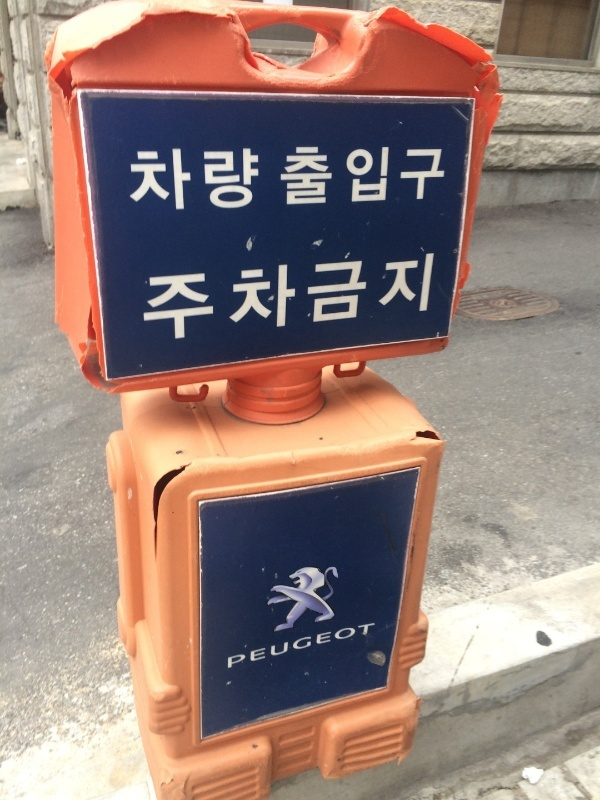text: (145, 247, 160, 349), (161, 247, 176, 349), (177, 247, 192, 349), (193, 247, 208, 349), (209, 247, 224, 349), (225, 247, 240, 349), (241, 247, 256, 349), (257, 247, 272, 349), (273, 247, 288, 349), (289, 247, 304, 349), (305, 247, 320, 349), (321, 247, 336, 349), (337, 247, 352, 349), (353, 247, 368, 349), (369, 247, 384, 349), (385, 247, 400, 349), (401, 247, 416, 349), (417, 247, 432, 349), (129, 143, 144, 221), (145, 143, 160, 221), (161, 143, 176, 221), (177, 143, 192, 221), (193, 143, 208, 221), (209, 143, 224, 221), (225, 143, 240, 221), (241, 143, 256, 221), (257, 143, 272, 221), (273, 143, 288, 221), (289, 143, 304, 221), (305, 143, 320, 221), (321, 143, 336, 221), (337, 143, 352, 221), (353, 143, 368, 221), (369, 143, 384, 221), (385, 143, 400, 221), (401, 143, 416, 221), (417, 143, 432, 221), (433, 143, 448, 221), (241, 618, 256, 672), (257, 618, 272, 672), (273, 618, 288, 672), (289, 618, 304, 672), (305, 618, 320, 672), (321, 618, 336, 672), (337, 618, 352, 672), (353, 618, 368, 672), (227, 618, 240, 672), (433, 247, 438, 349), (369, 618, 375, 672), (143, 247, 144, 349), (127, 143, 128, 221)
